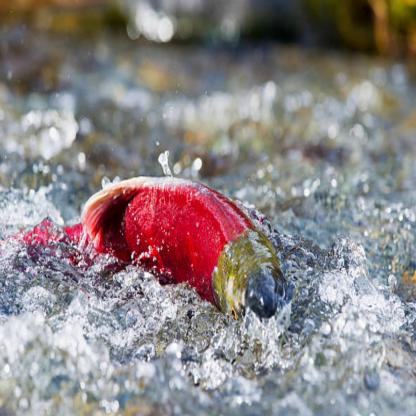sockeye: (25, 166, 291, 334)
